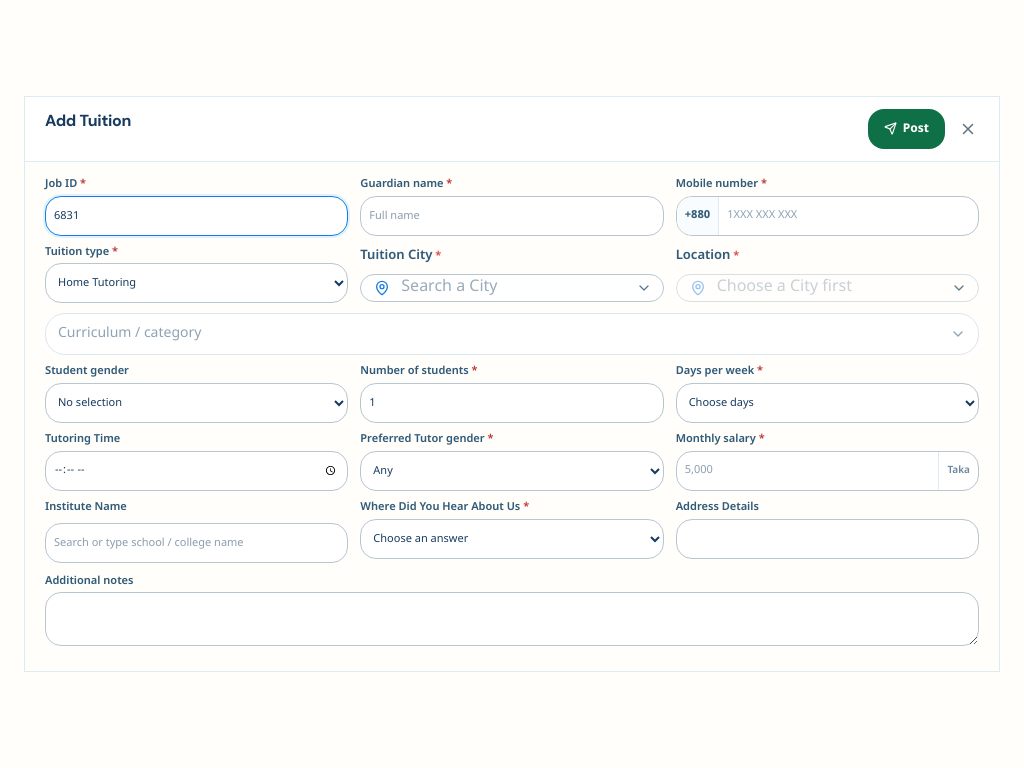
it: Add Tuition › swaps the tuition location for the Guardian's own when the tuition is online
The image size is (1024, 768).
Expected: the text "Tuition City" is shown, [360,247,432,264]
Select "Online Tutoring" in the dropdown labelled "Tuition type *" at (197, 283), box [45,263,348,303]
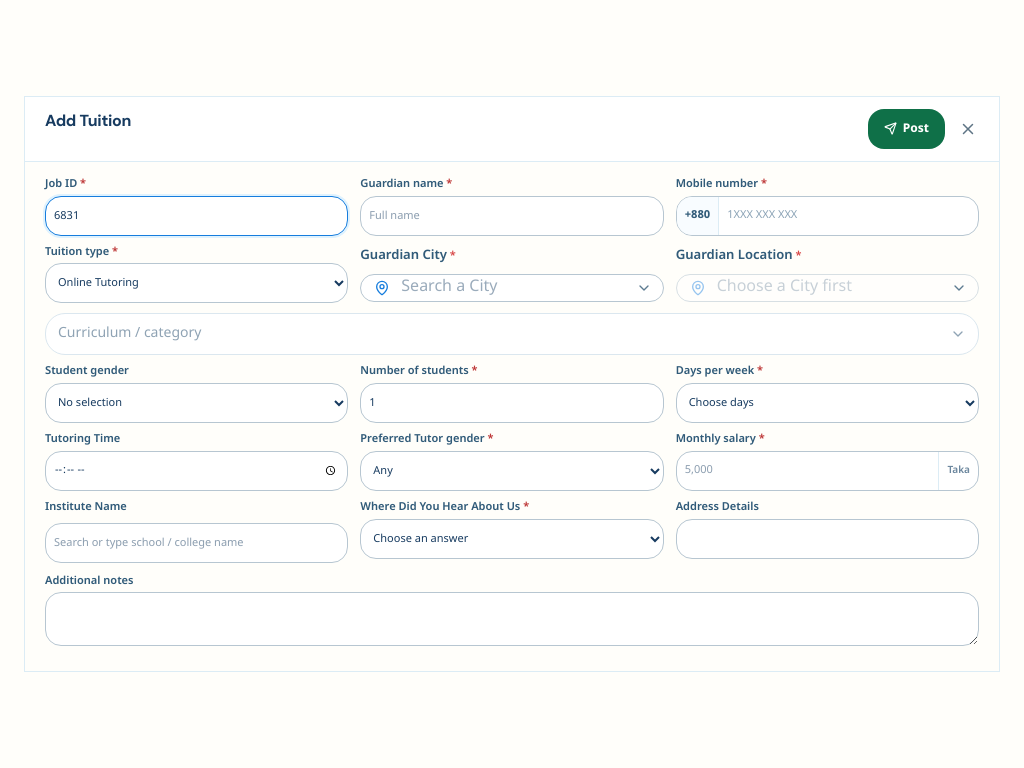
Now the text "Tuition City" is gone
Now the text "Guardian City" is shown, box [360,247,447,264]
